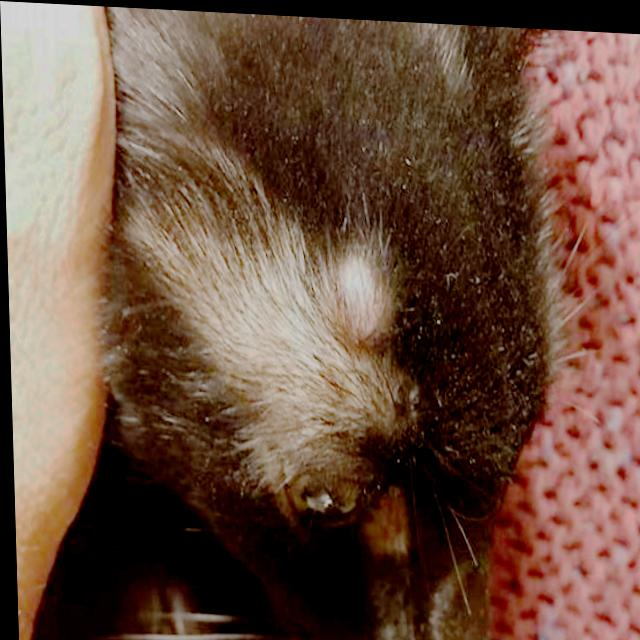hairloss: (221, 262, 316, 364)
lump_and_bump: (339, 254, 380, 308)
